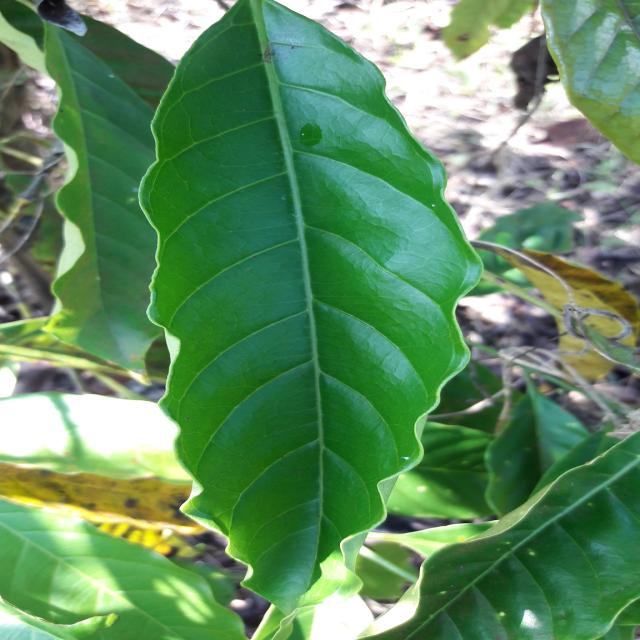Sanas: (136, 0, 483, 612)
